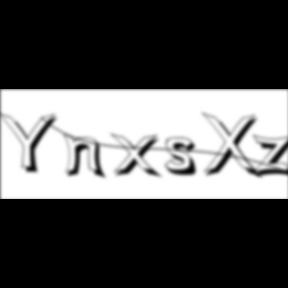X: (202, 112, 266, 182)
Y: (0, 110, 64, 176)
n: (62, 132, 110, 181)
s: (164, 137, 204, 179)
x: (110, 132, 166, 181)
